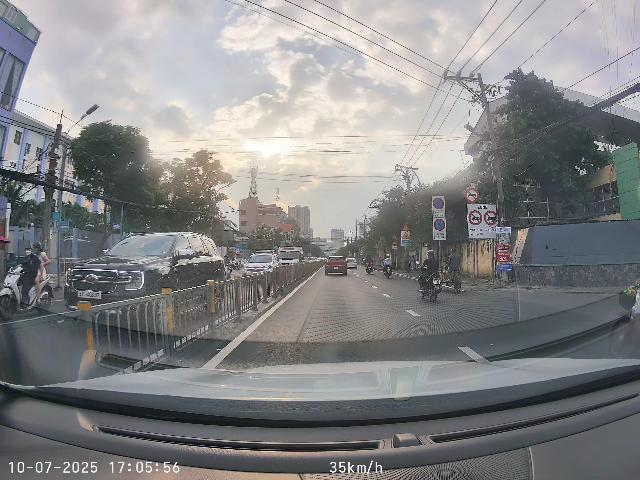106-cam-oto-tai: (469, 210, 482, 225), (484, 210, 497, 225)
130-cam-dung-va-do-xe: (433, 197, 444, 209)
131a-cam-do-xe: (434, 218, 445, 231)
